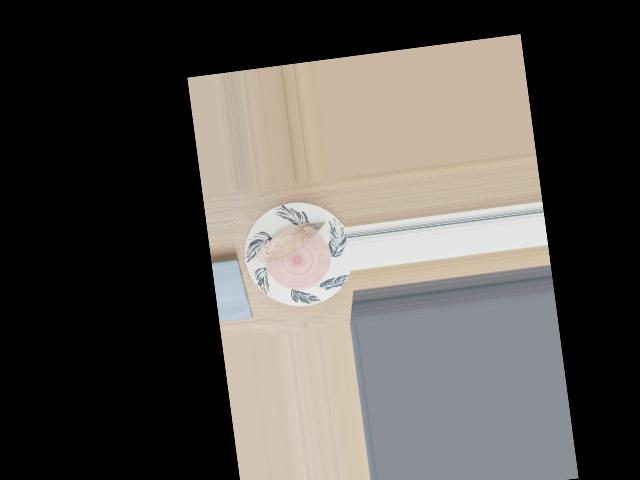sweet_potato: (257, 221, 321, 264)
